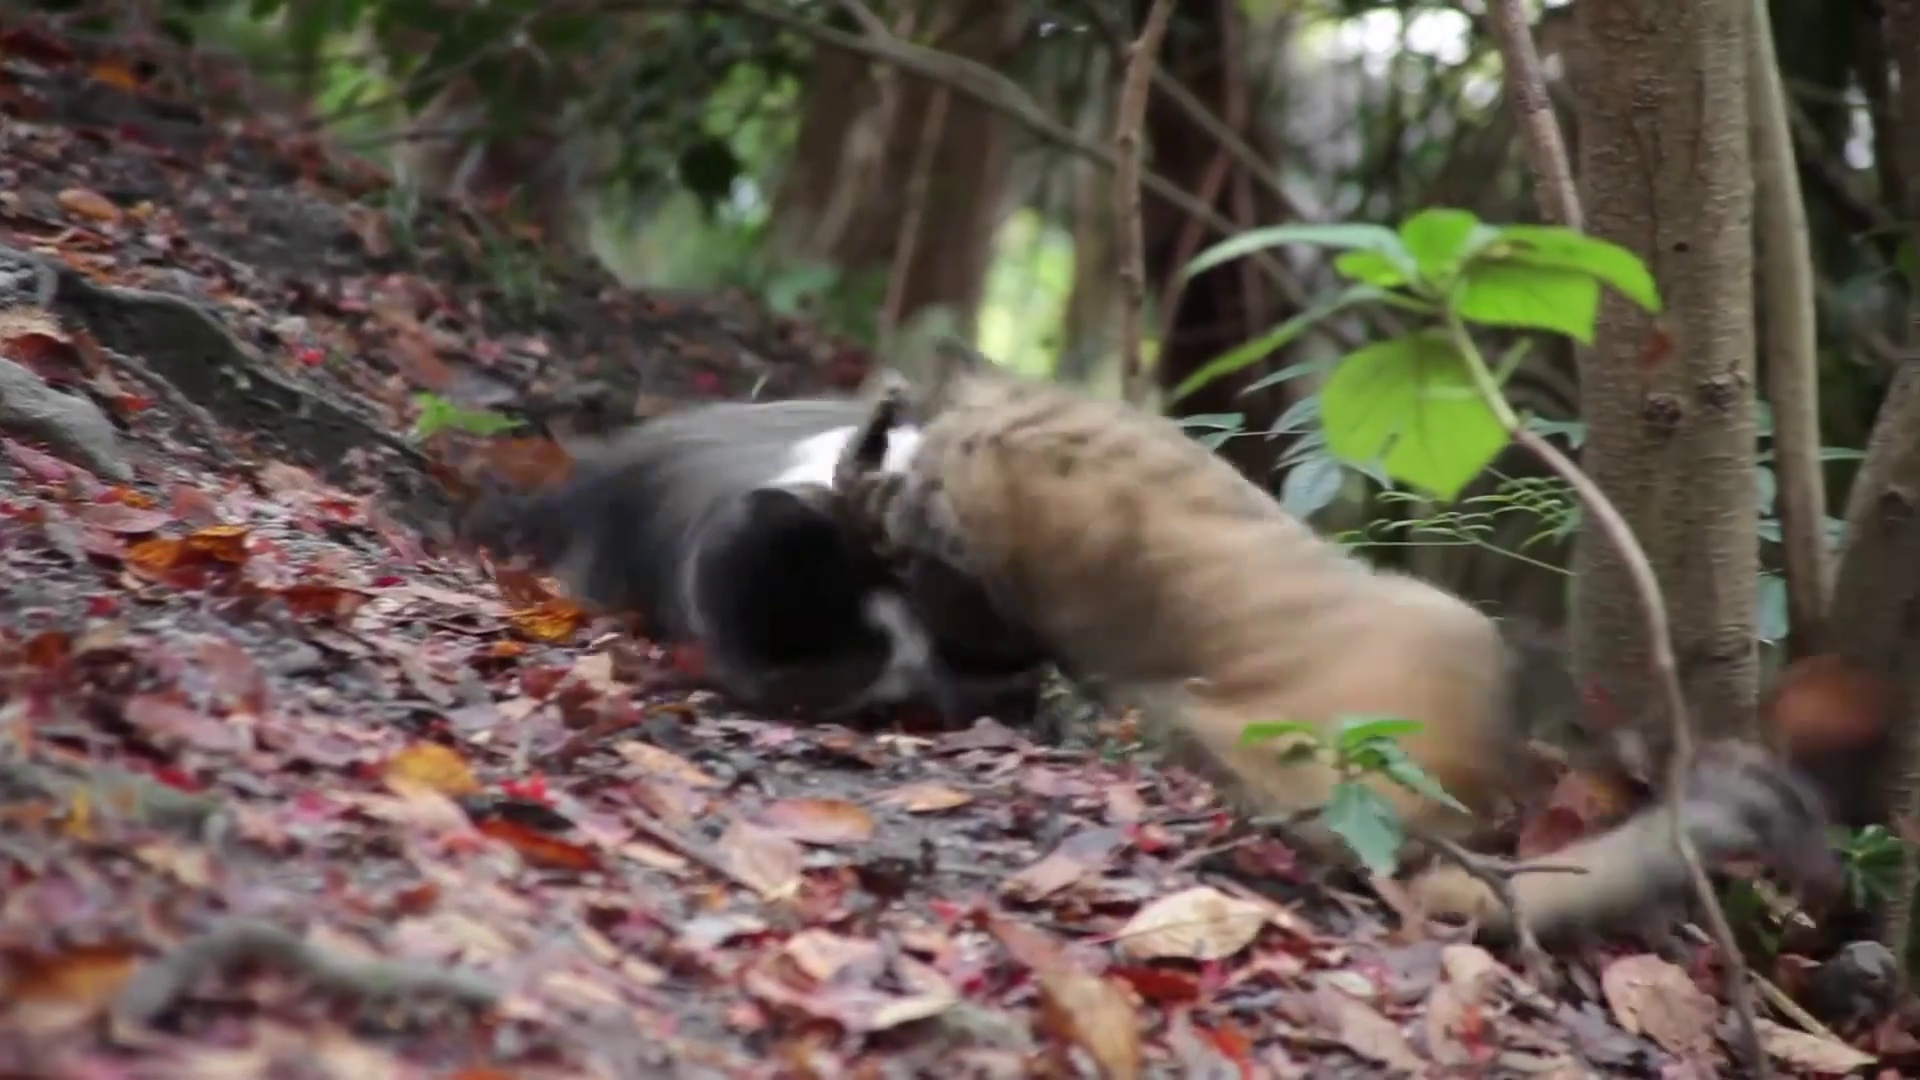black-white: (545, 396, 996, 704)
pure black: (833, 371, 1505, 825)
